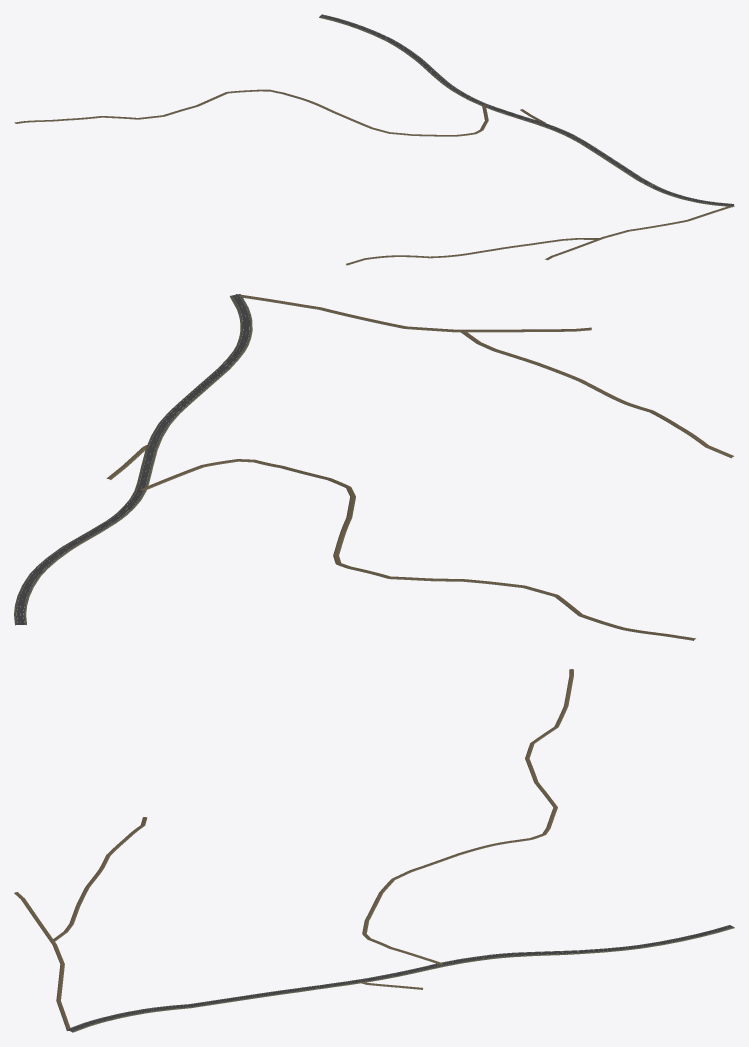
The picture shows the model from 3 angles, top to bottom: view 1: azimuth 30°, elevation 25°; view 2: azimuth 150°, elevation 25°; view 3: azimuth 270°, elevation 25°; orthographic projection. The views are drawn at different scales.
Visible parts, largest first — view 1: roads; view 2: roads; view 3: roads.
Boxes of the visible parts, x1,y1,x2,y2 form: roads: (14,14,734,265); roads: (14,294,733,640); roads: (14,669,734,1032).
Size of the model in its own units: 796 by 81.31 by 810.
